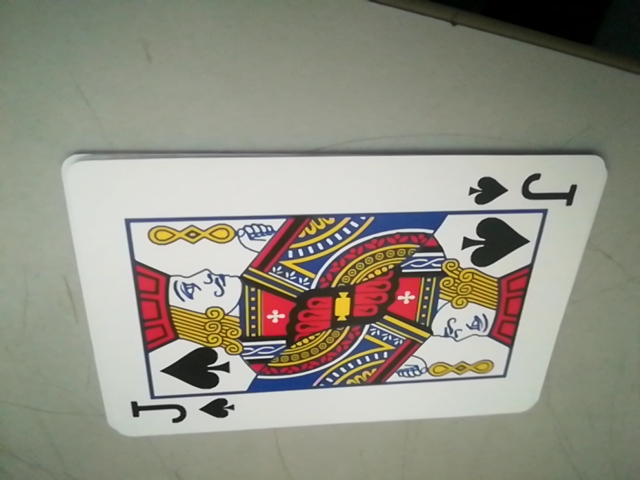ht j: (119, 391, 244, 434), (462, 168, 580, 210)
